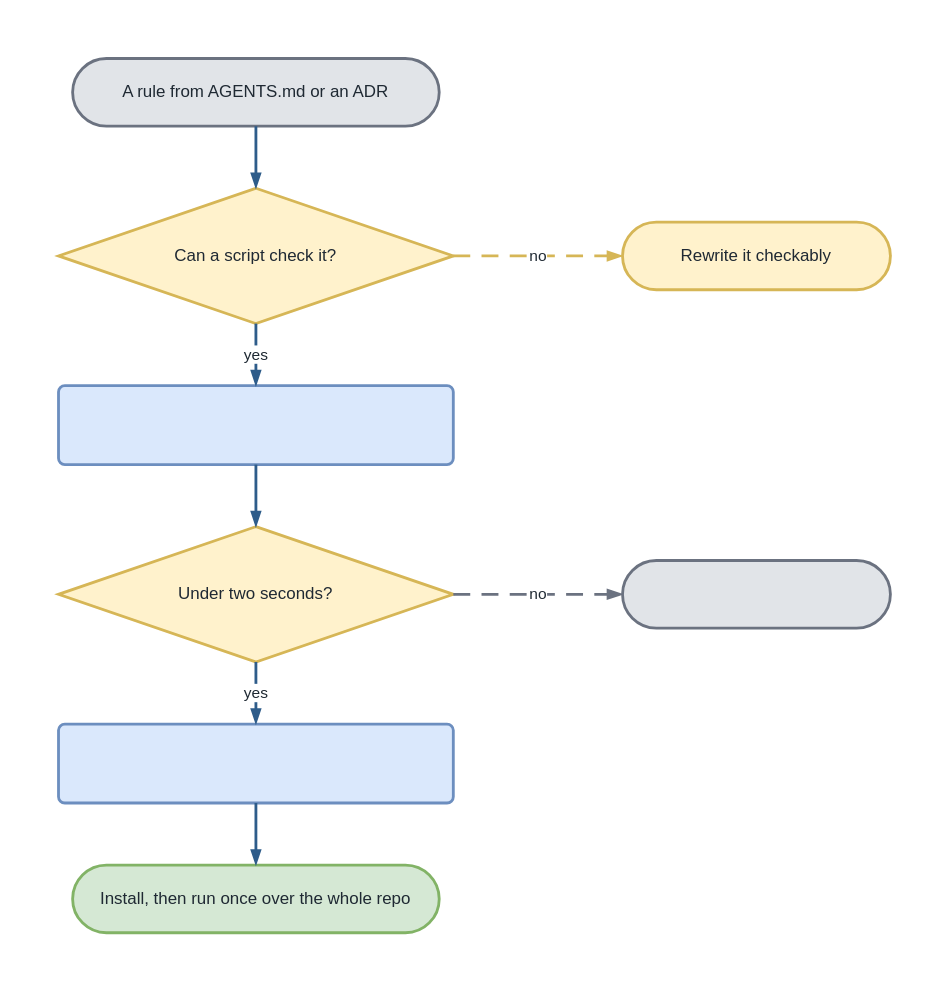
This 948x990 diagram has some shape labels left out. Here are the shapes that lost their labels. From the top down, the centre of each, then its label:
At point 255,424: "Script over changed files only".
At point 755,593: "Move to pre-push or CI".
At point 255,763: "Two fixtures: one fails, one passes".
